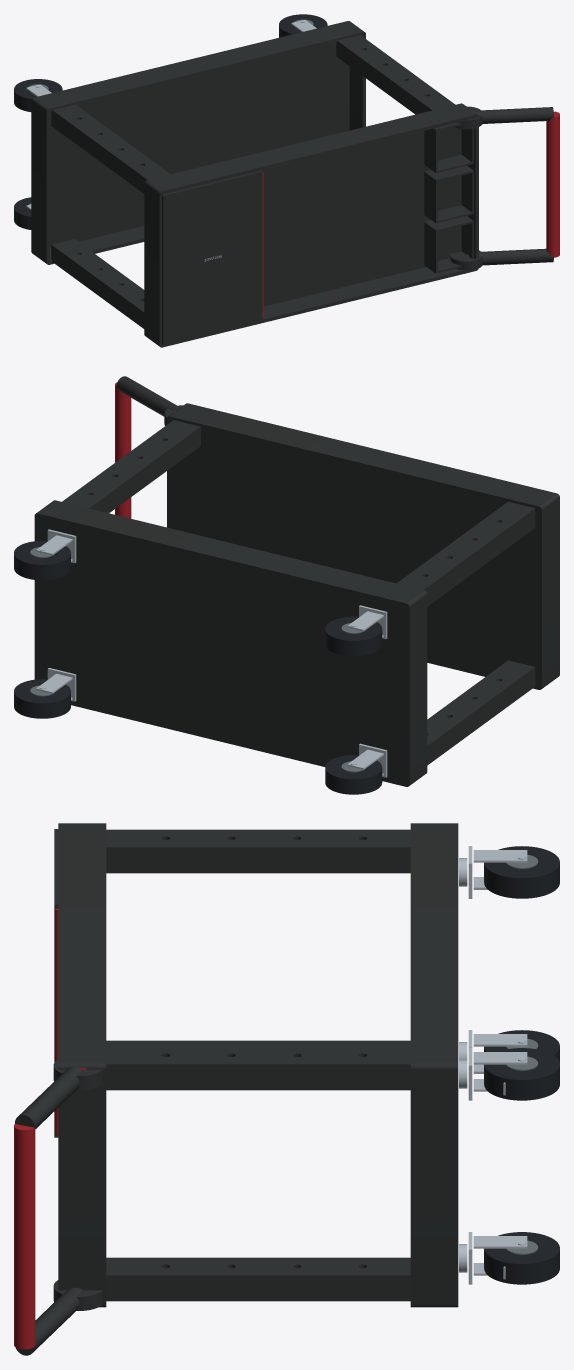
The model's file is prepared_utility_cart.glb.
3 renders of one model, top to bottom at view 1: azimuth 30°, elevation 25°; view 2: azimuth 150°, elevation 25°; view 3: azimuth 270°, elevation 25°, orthographic. The views are drawn at different scales.
Visible parts, largest first — view 1: lower_shelf, upper_shelf, folding_work_surface, perforated_leg_-0.43_0.195, perforated_leg_0.43_0.195, perforated_leg_-0.43_-0.195, handle_storage_well_0, handle_storage_well_-0.145, handle_storage_well_0.145, handle_crossbar, handle_arm_0.204, handle_arm_-0.204 (+5 smaller); view 2: lower_shelf, upper_shelf, perforated_leg_-0.43_0.195, perforated_leg_0.43_0.195, perforated_leg_-0.43_-0.195, rubber_wheel_-0.4_0.17, rubber_wheel_-0.4_-0.17, rubber_wheel_0.4_-0.17, rubber_wheel_0.4_0.17, handle_crossbar, handle_arm_0.204; view 3: lower_shelf, upper_shelf, perforated_leg_0.43_0.195, perforated_leg_0.43_-0.195, perforated_leg_-0.43_0.195, handle_crossbar, rubber_wheel_-0.4_0.17, rubber_wheel_0.4_0.17, rubber_wheel_0.4_-0.17, perforated_leg_-0.43_-0.195, handle_arm_0.204, handle_arm_-0.204 (+6 smaller).
Boxes of the visible parts, <box> form: lower_shelf: <box>31,21,365,264</box>; upper_shelf: <box>144,103,478,347</box>; folding_work_surface: <box>162,170,262,344</box>; perforated_leg_-0.43_0.195: <box>51,104,170,193</box>; perforated_leg_0.43_0.195: <box>336,35,455,114</box>; perforated_leg_-0.43_-0.195: <box>51,239,144,328</box>; handle_storage_well_0: <box>424,165,473,223</box>; handle_storage_well_-0.145: <box>424,216,473,273</box>; handle_storage_well_0.145: <box>424,122,473,172</box>; handle_crossbar: <box>546,111,559,257</box>; handle_arm_0.204: <box>472,107,553,123</box>; handle_arm_-0.204: <box>466,248,553,265</box>; lower_shelf: <box>34,500,427,786</box>; upper_shelf: <box>167,403,559,689</box>; perforated_leg_-0.43_0.195: <box>396,501,535,606</box>; perforated_leg_0.43_0.195: <box>62,420,200,513</box>; perforated_leg_-0.43_-0.195: <box>427,660,535,765</box>; rubber_wheel_-0.4_0.17: <box>325,616,382,656</box>; rubber_wheel_-0.4_-0.17: <box>325,755,382,794</box>; rubber_wheel_0.4_-0.17: <box>14,679,70,718</box>; rubber_wheel_0.4_0.17: <box>14,540,70,580</box>; handle_crossbar: <box>115,382,131,518</box>; handle_arm_0.204: <box>116,376,180,416</box>; lower_shelf: <box>410,823,458,1307</box>; upper_shelf: <box>58,823,106,1307</box>; perforated_leg_0.43_0.195: <box>106,1046,410,1090</box>; perforated_leg_0.43_-0.195: <box>106,1257,410,1301</box>; perforated_leg_-0.43_0.195: <box>106,829,410,873</box>; handle_crossbar: <box>14,1124,35,1349</box>; rubber_wheel_-0.4_0.17: <box>484,846,559,898</box>; rubber_wheel_0.4_0.17: <box>484,1048,559,1100</box>; rubber_wheel_0.4_-0.17: <box>484,1232,559,1284</box>; perforated_leg_-0.43_-0.195: <box>106,1040,410,1046</box>; handle_arm_0.204: <box>15,1066,81,1129</box>; handle_arm_-0.204: <box>15,1287,82,1355</box>.
Bounding box in the file's own units: 1.17 × 0.4509 × 0.9144.
8 materials, 1 textured.
